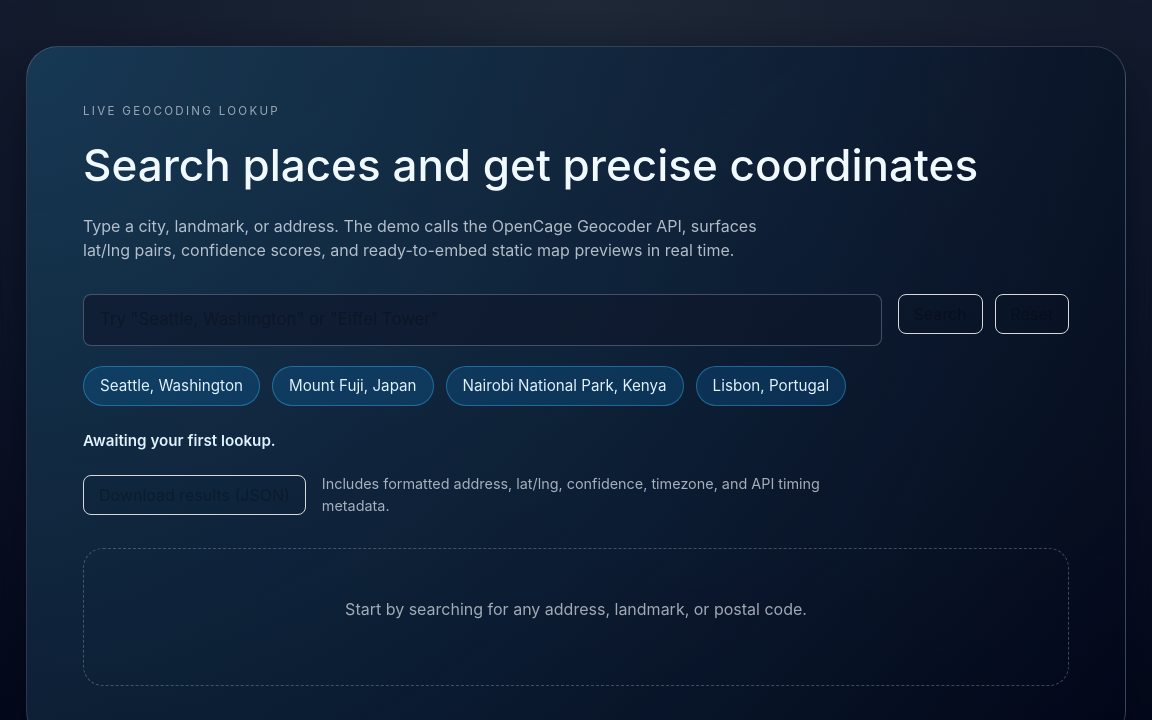
Test case: GeocodeSearchDemo › disables search until input has enough characters and surfaces helper text (positive)
Check: the button "Search" is disabled, box [898,294,983,334]
Type "NY" into the field named "search for a location". click: (482, 320)
box: [83,294,882,346]
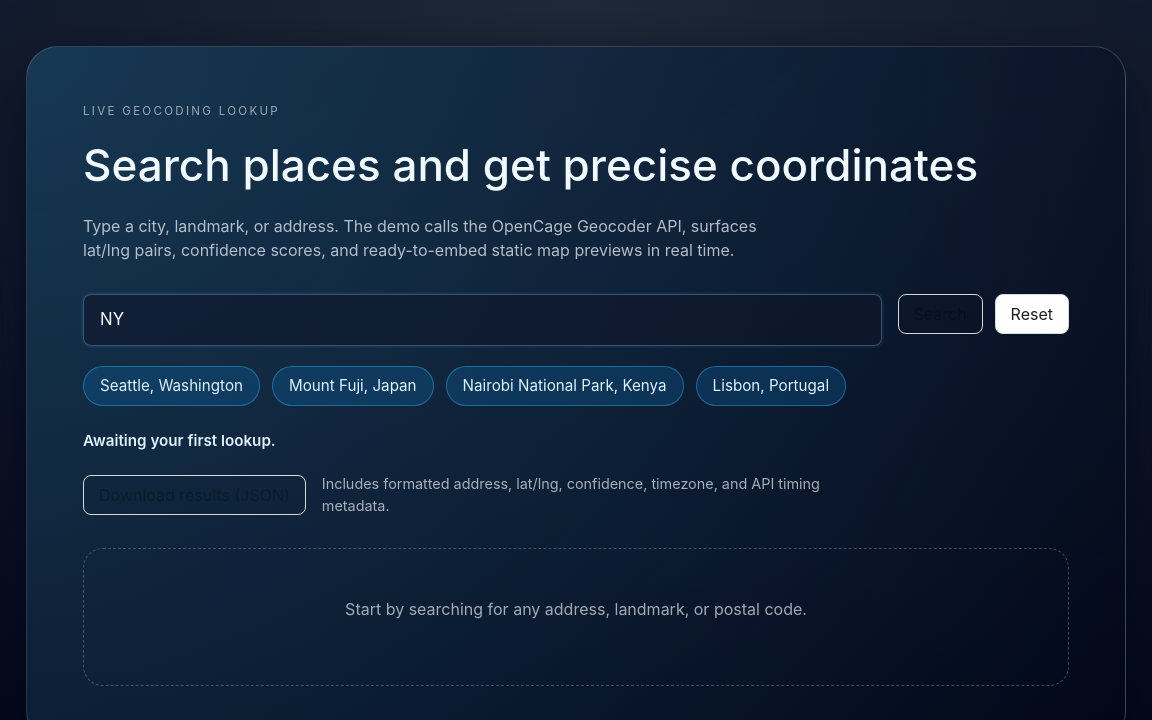
Check: the button "Search" is disabled, box [898,294,983,334]
Type "C" into the field named "search for a location". click: (482, 320)
box: [83,294,882,346]
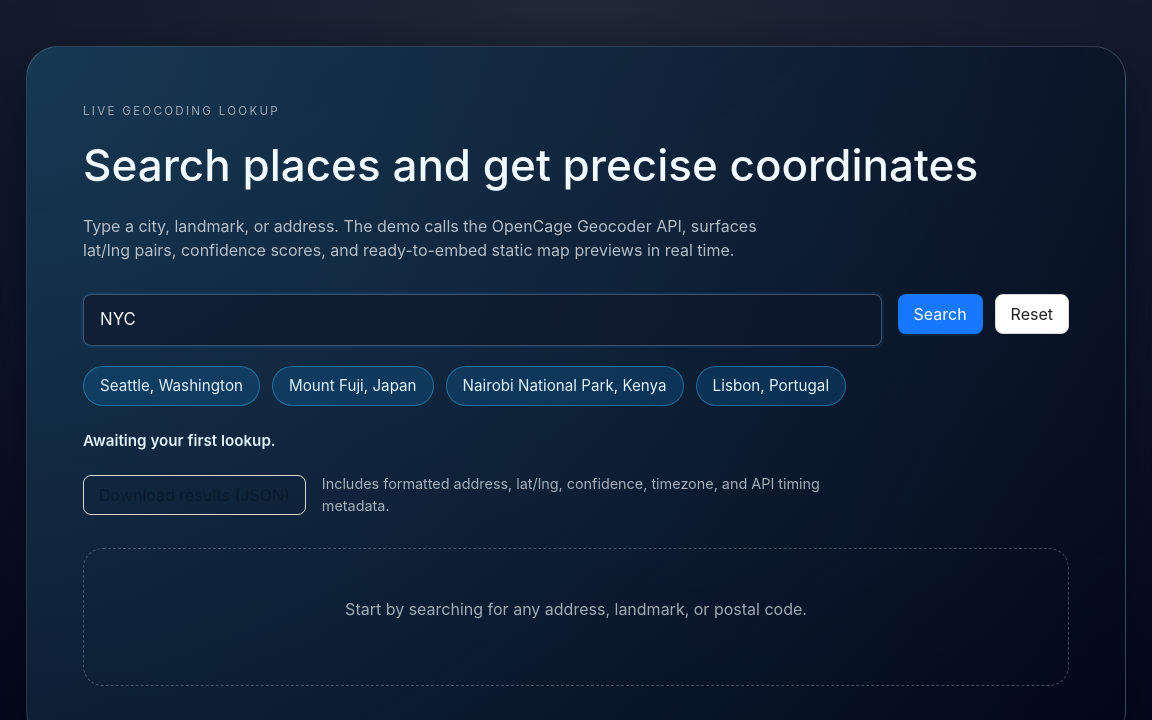
Check: the text "Live geocoding lookup" is shown, box [83,104,280,118]
Check: the button "Search" is enabled, box [898,294,983,334]
